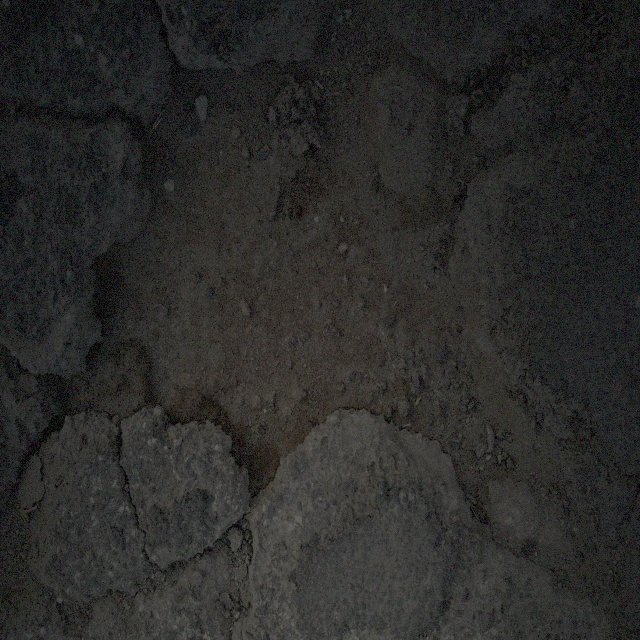pothole: (50, 24, 471, 494)
